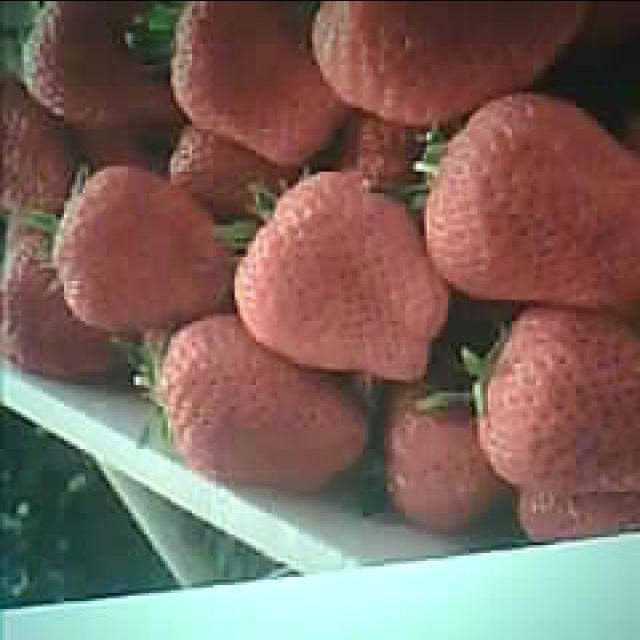ripe: (424, 92, 640, 308), (235, 177, 447, 376), (480, 312, 640, 494), (58, 166, 235, 326)
